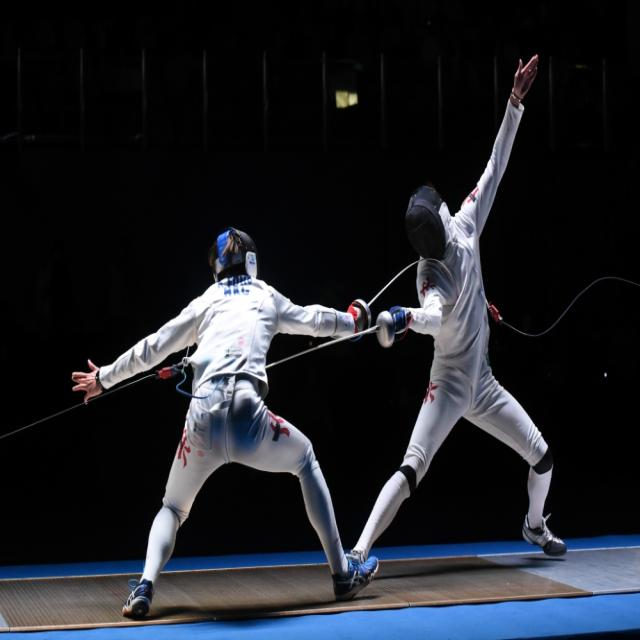stand: (149, 223, 358, 640), (394, 177, 544, 592)
